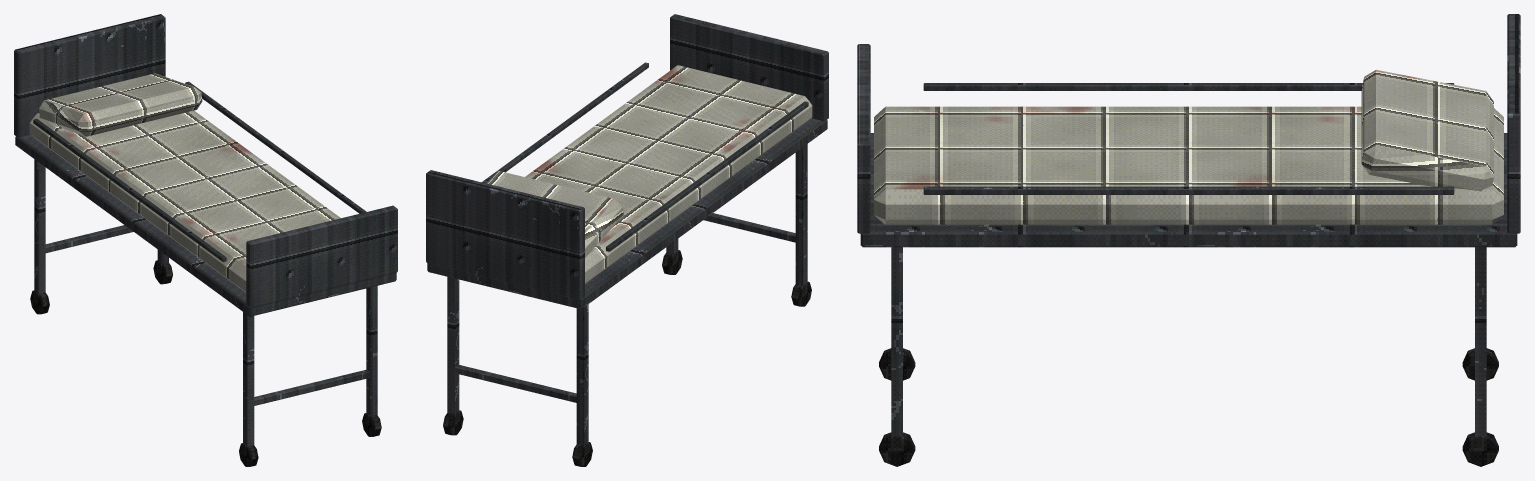
File: prop_gurney.glb
The picture shows the model from 3 angles, left to right: view 1: azimuth 30°, elevation 25°; view 2: azimuth 150°, elevation 25°; view 3: azimuth 270°, elevation 25°; orthographic projection. The views are drawn at different scales.
Parts seen in each view (by area): view 1: prop_gurney_mesh; view 2: prop_gurney_mesh; view 3: prop_gurney_mesh.
Part boxes in pixels (<box>): prop_gurney_mesh: <box>14,14,397,466</box>; prop_gurney_mesh: <box>426,14,828,466</box>; prop_gurney_mesh: <box>857,14,1520,466</box>.
Bounding box in the file's own units: 0.76 × 1.2 × 2.
Materials: 3 (3 with a texture image).
